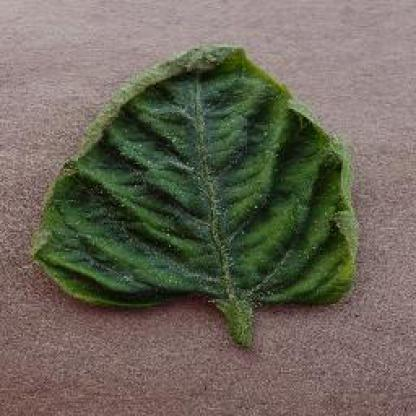bad leaf: (162, 37, 240, 79), (205, 270, 260, 322), (61, 157, 82, 191)
